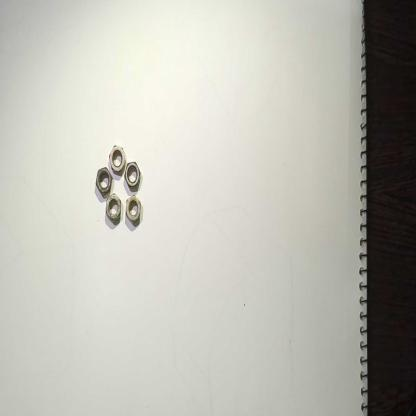NUTS: (94, 163, 113, 201), (107, 142, 127, 178), (124, 192, 143, 228), (105, 190, 122, 226), (123, 160, 141, 190)
